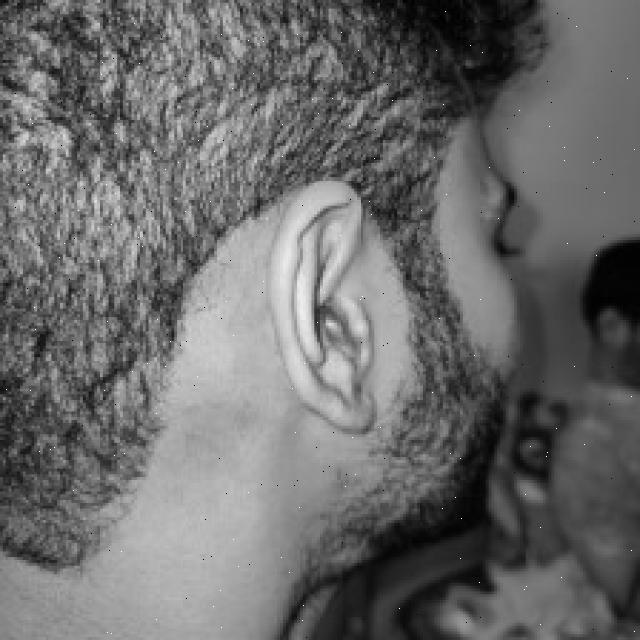ear: (266, 180, 371, 426)
